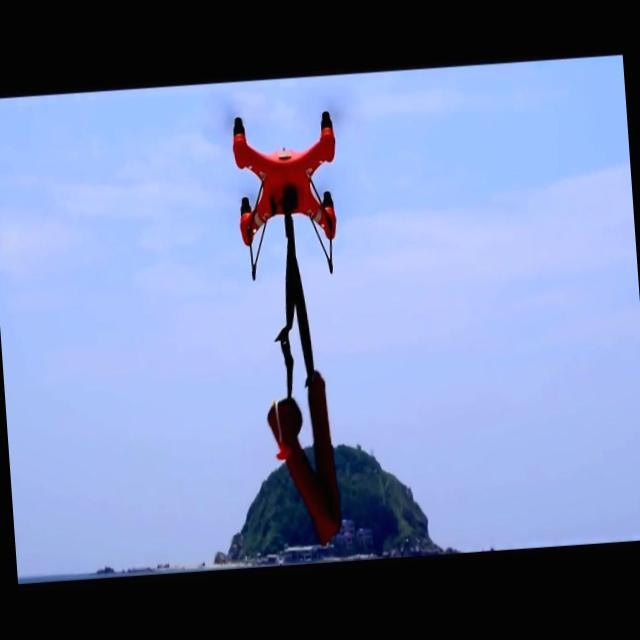drone: (228, 104, 346, 282)
